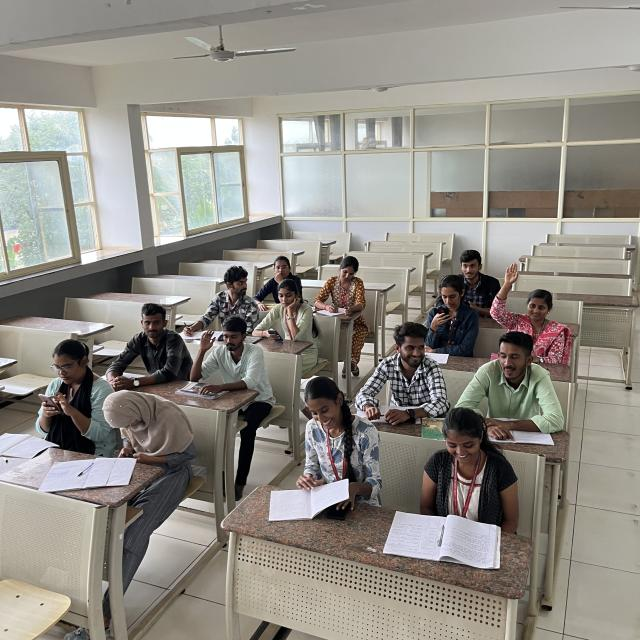Hand Rising: (496, 264, 568, 346), (182, 329, 266, 383)
Reading: (397, 407, 495, 552), (269, 378, 364, 520)
Using Phone: (16, 345, 102, 430), (100, 392, 191, 462), (427, 280, 482, 356), (256, 282, 310, 349)
Writing: (308, 250, 402, 324)
